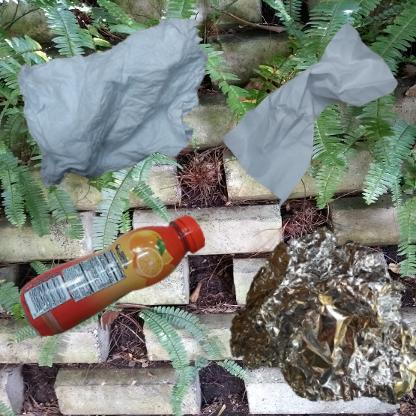aluminio: (213, 213, 416, 416)
botella: (10, 213, 233, 350)
papel: (10, 10, 243, 203), (213, 10, 407, 223)
